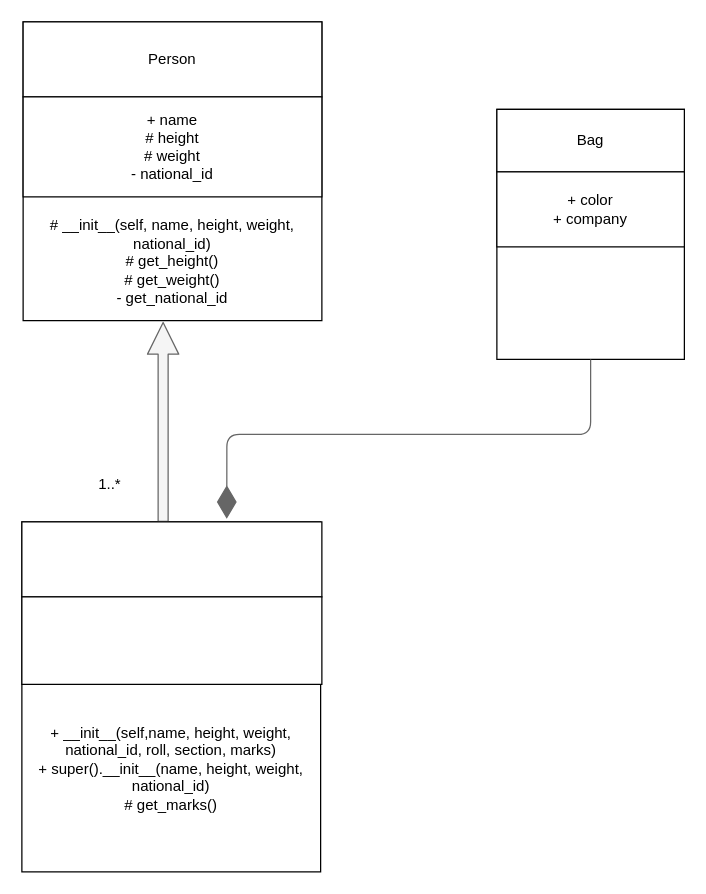
This 706x894 diagram has some shape labels left out. Each missing label, with the box of its shape:
+ __init__(self, color, company) - buy_bag(): (496, 108, 684, 359)
+ roll + section - marks: (21, 596, 322, 684)
Student: (21, 521, 322, 597)
